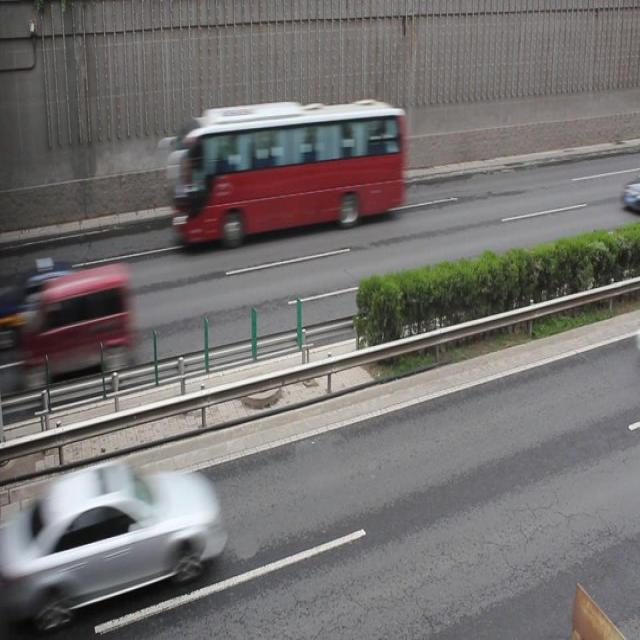car: (28, 458, 218, 616)
truck: (39, 264, 132, 380)
van: (174, 99, 405, 252)
